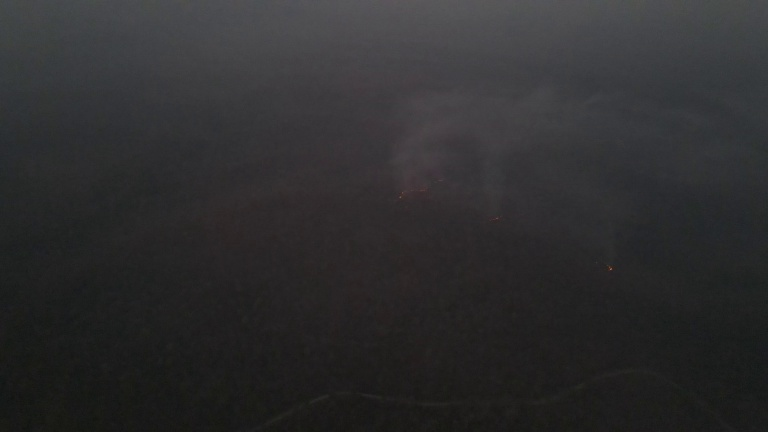fire: (414, 184, 430, 193), (488, 213, 502, 223), (427, 176, 444, 184), (395, 186, 403, 201), (605, 262, 616, 272)
smoke: (389, 86, 551, 211)
